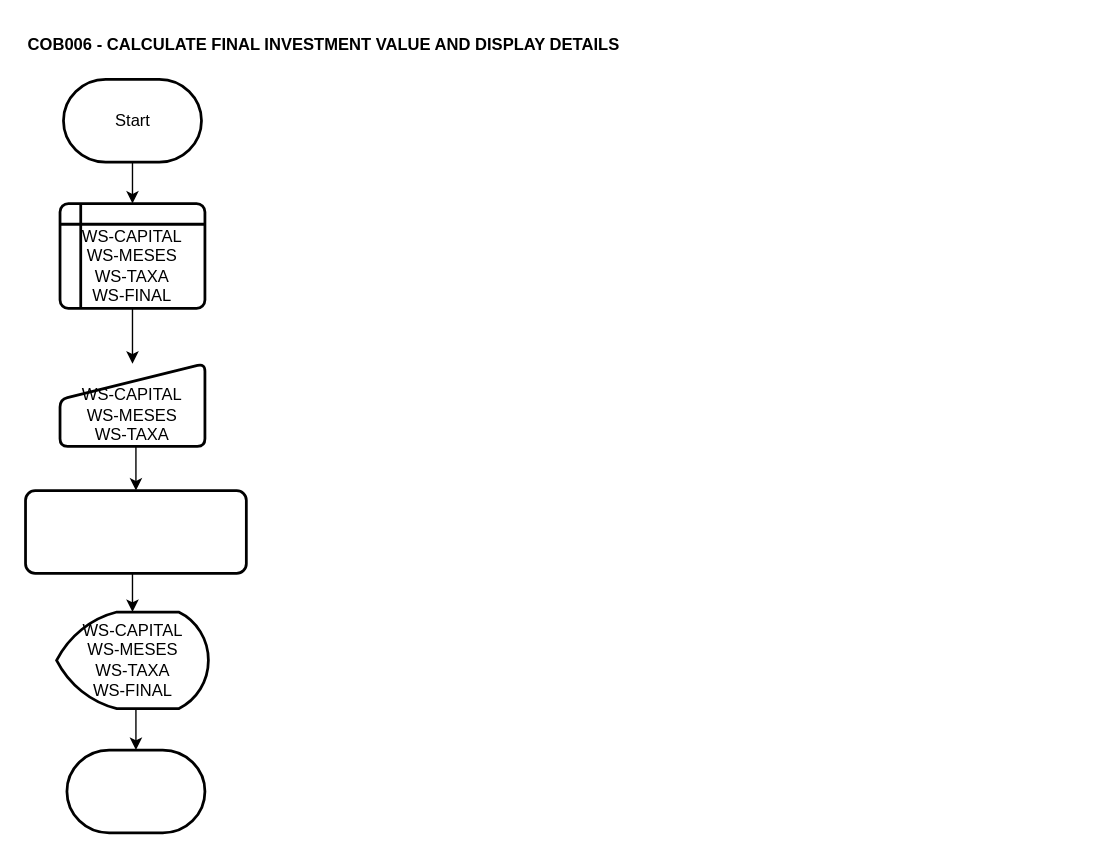
This 1097x857 diagram has some shape labels left out. Each missing label, with the centre of its shape:
Stop: pixel 135 791
WS-FINAL = WS-CAPITAL * (1 + WS-TAXA / 100) ** 3.: pixel 135 531
